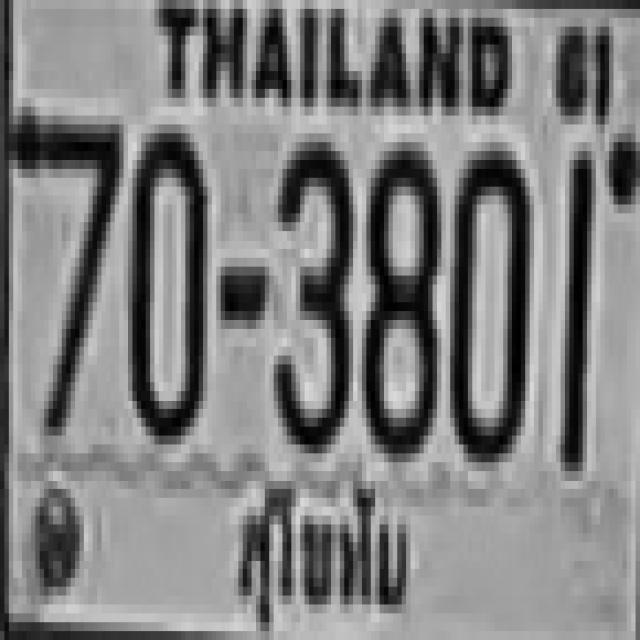0: (446, 142, 525, 454), (128, 116, 203, 436)
1: (556, 146, 587, 466), (561, 142, 587, 462)
3: (269, 133, 349, 444)
7: (40, 106, 119, 426)
8: (360, 134, 434, 454)
STI: (225, 464, 423, 640)
